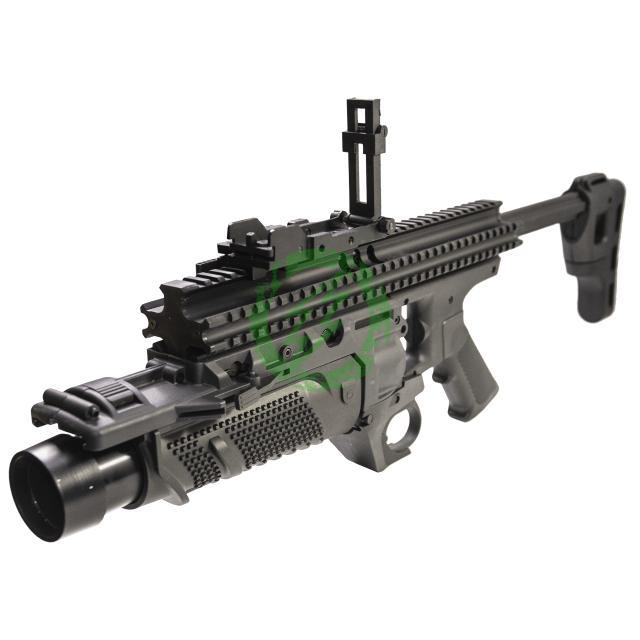rifle: (124, 149, 634, 430)
rocket launcher: (1, 326, 453, 550)
